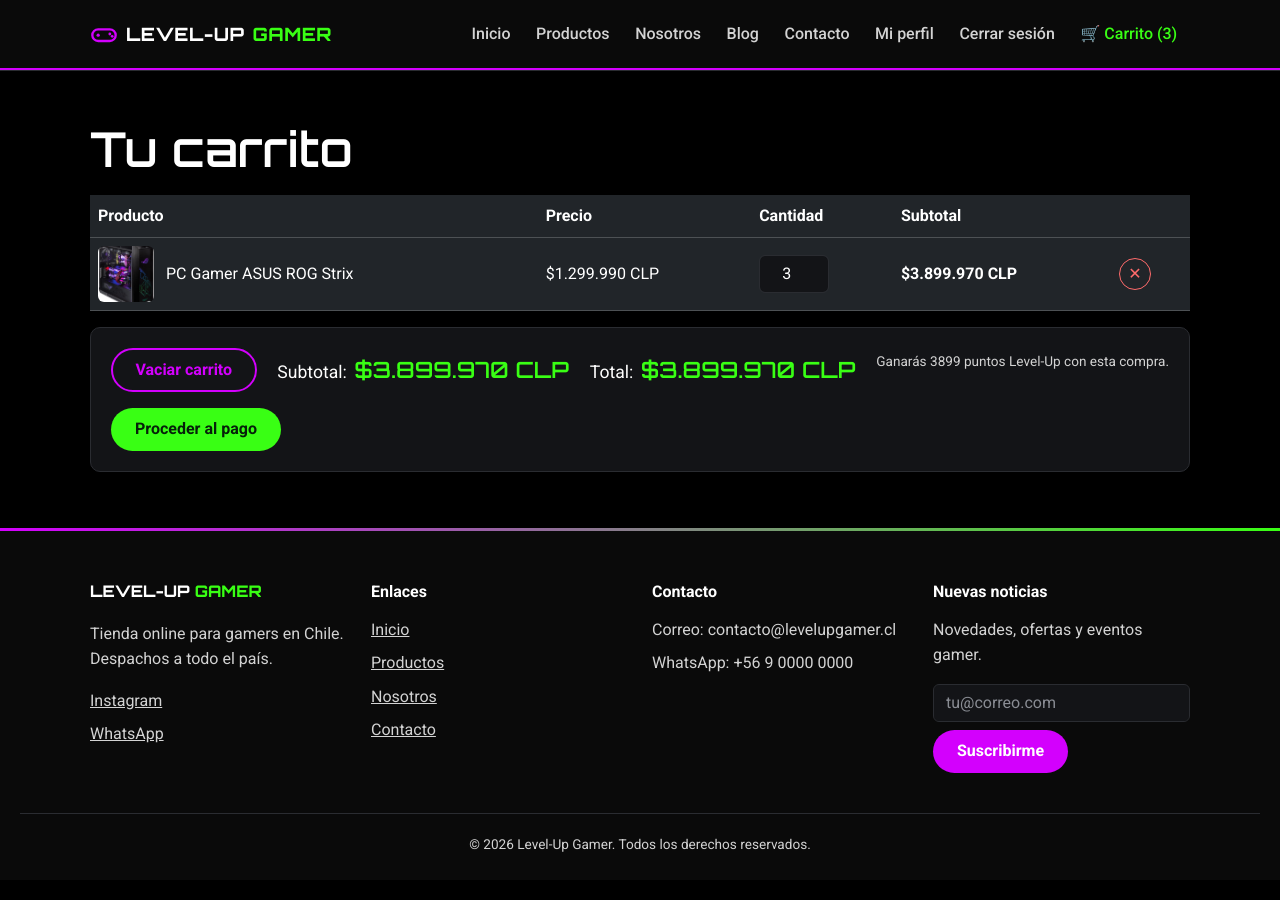
<Carrito /> › si no hay stock suficiente muestra el error del servidor y conserva el carrito
Check: the table is shown, box [90,195,1190,311]
Click the button "Proceder al pago" at (196, 429), box [111,408,281,451]
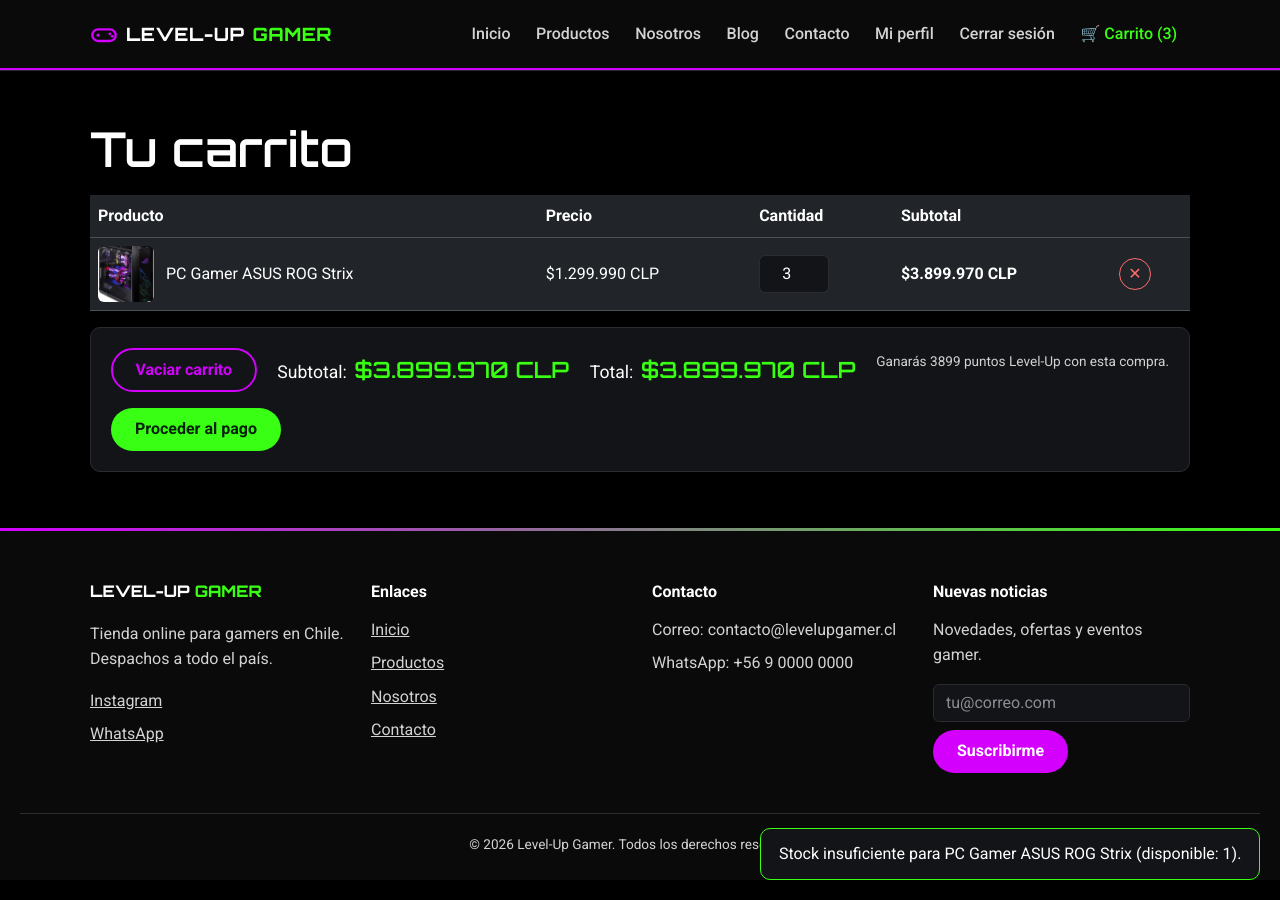
Check: the table is shown, box [90,195,1190,311]
Check: the text "Stock insuficiente para PC Gamer ASUS ROG Strix (disponible: 1)." is shown, box [760,828,1260,880]
